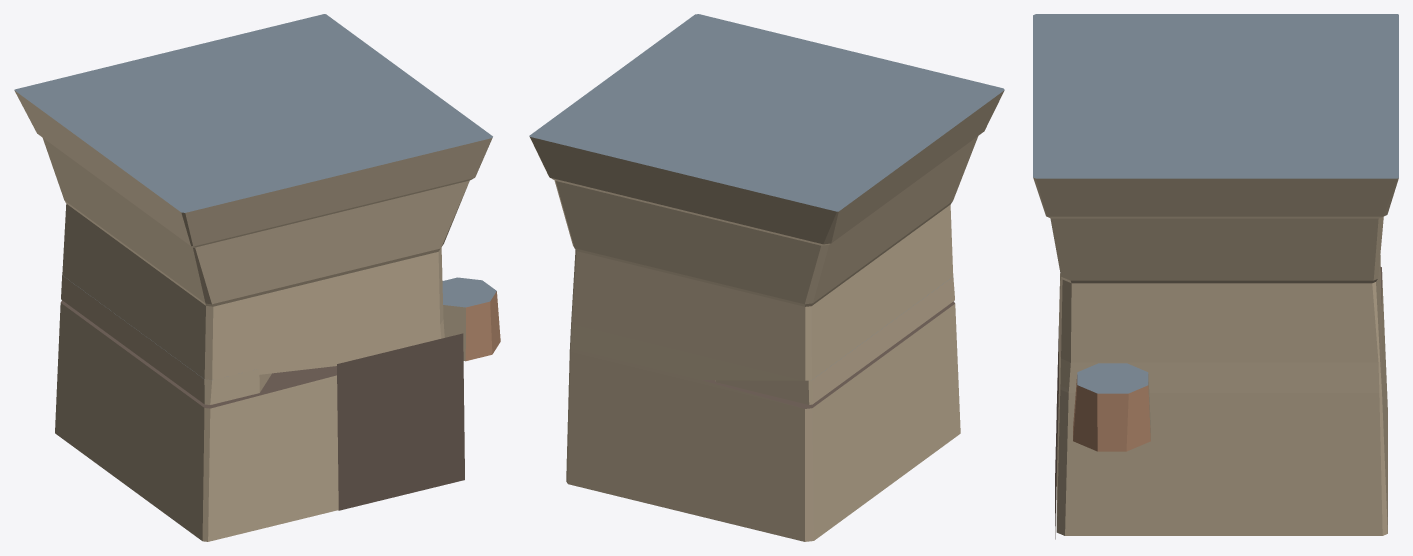
File: loin.glb
3 views of the same model, side by side, from view 1: azimuth 30°, elevation 25°; view 2: azimuth 150°, elevation 25°; view 3: azimuth 270°, elevation 25° (orthographic). The views are drawn at different scales.
Visible parts, largest first — view 1: loin; view 2: loin; view 3: loin.
Boxes of the visible parts, left/top/right/bottom form: loin: left=14, top=14, right=500, bottom=541; loin: left=529, top=14, right=1004, bottom=541; loin: left=1033, top=14, right=1398, bottom=539.
Size of the model in its own units: 0.8934 by 0.8475 by 0.7525.
